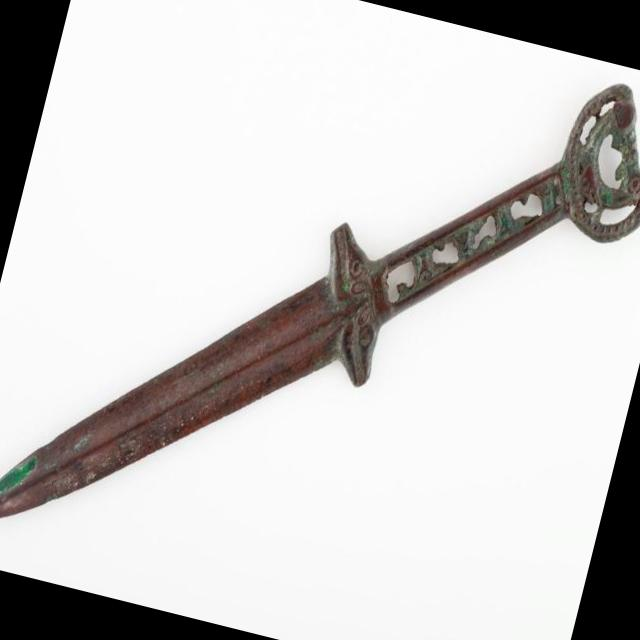Knife: (0, 83, 640, 516)
